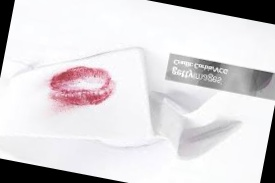lipstick: (41, 53, 116, 122)
